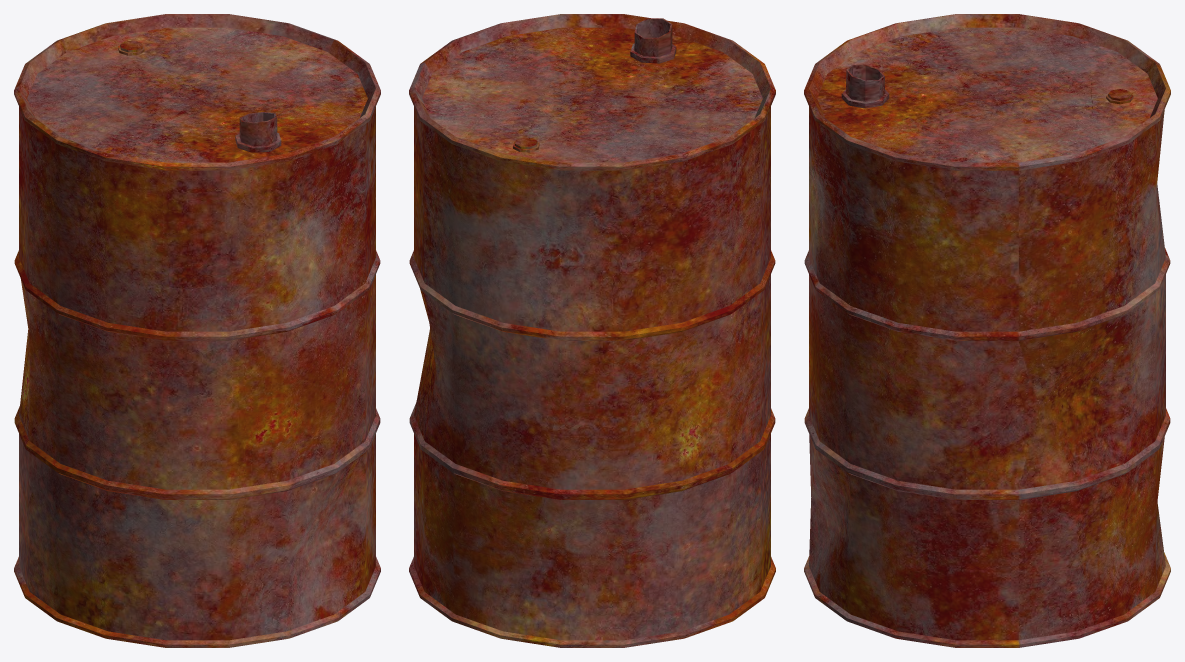
Rendered from barrel_rust.glb.
3 renders of one model, left to right at view 1: azimuth 30°, elevation 25°; view 2: azimuth 150°, elevation 25°; view 3: azimuth 270°, elevation 25°, orthographic.
Visible parts, largest first — view 1: barrel; view 2: barrel; view 3: barrel.
Part boxes in pixels (x1=…): barrel: x1=14, y1=14, x2=380, y2=647; barrel: x1=409, y1=14, x2=775, y2=647; barrel: x1=804, y1=14, x2=1170, y2=647.
Size of what is drawn, in the model's own units: 0.972 by 1.5 by 0.987.
1 material, 1 textured.
